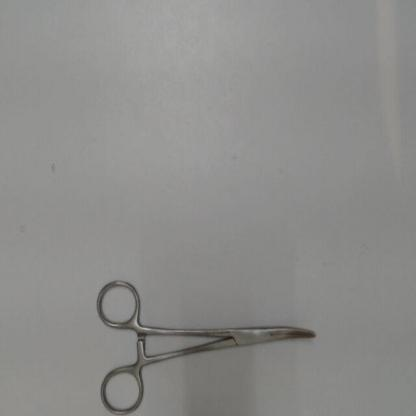Crile Artery Forceps: (90, 267, 326, 415)
